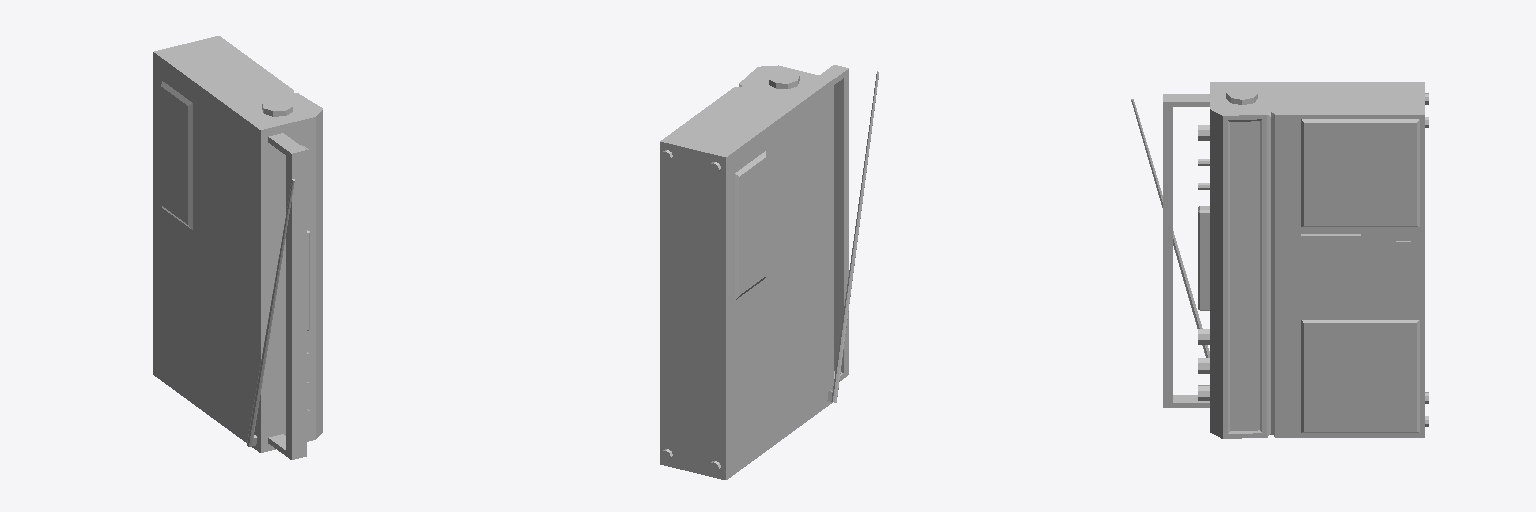
The model's file is radio2.obj.
3 renders of one model, left to right at view 1: azimuth 30°, elevation 25°; view 2: azimuth 150°, elevation 25°; view 3: azimuth 270°, elevation 25°, orthographic.
Visible parts, largest first — view 1: radio2; view 2: radio2; view 3: radio2.
Boxes of the visible parts, box(x1,y1,x2,y2) form: radio2: box(153, 36, 322, 459); radio2: box(660, 65, 878, 479); radio2: box(1131, 82, 1428, 438).
Size of the model in its own units: 3.52 by 14.23 by 11.71.